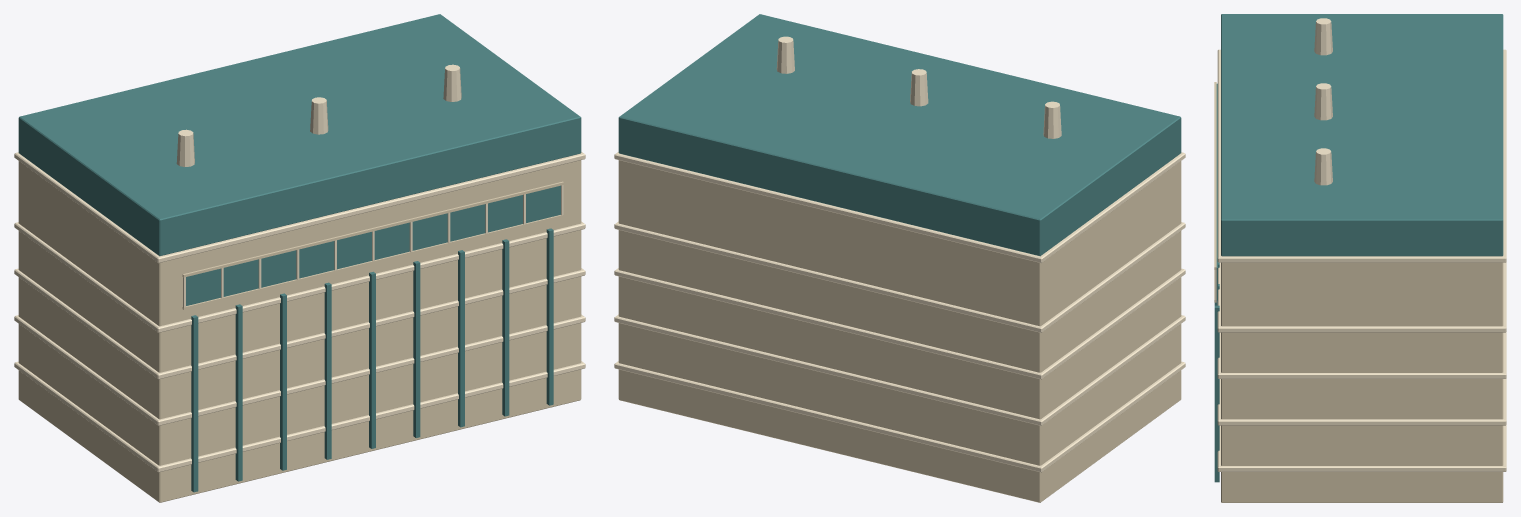
The model's file is hsc3_power_turbine_hall.glb.
3 renders of one model, left to right at view 1: azimuth 30°, elevation 25°; view 2: azimuth 150°, elevation 25°; view 3: azimuth 270°, elevation 25°, orthographic.
Parts seen in each view (by area): view 1: hsc3_power_turbine_hall__hsc3-cream-enamel, hsc3_power_turbine_hall__hsc3-deep-teal, hsc3_power_turbine_hall__hsc3-pale-trim; view 2: hsc3_power_turbine_hall__hsc3-cream-enamel, hsc3_power_turbine_hall__hsc3-deep-teal, hsc3_power_turbine_hall__hsc3-pale-trim; view 3: hsc3_power_turbine_hall__hsc3-deep-teal, hsc3_power_turbine_hall__hsc3-cream-enamel, hsc3_power_turbine_hall__hsc3-pale-trim.
Part boxes in pixels (left/top/right/bottom): hsc3_power_turbine_hall__hsc3-cream-enamel: left=18, top=160, right=581, bottom=502; hsc3_power_turbine_hall__hsc3-deep-teal: left=18, top=14, right=581, bottom=492; hsc3_power_turbine_hall__hsc3-pale-trim: left=14, top=64, right=585, bottom=472; hsc3_power_turbine_hall__hsc3-cream-enamel: left=618, top=160, right=1181, bottom=502; hsc3_power_turbine_hall__hsc3-deep-teal: left=618, top=14, right=1181, bottom=256; hsc3_power_turbine_hall__hsc3-pale-trim: left=614, top=36, right=1185, bottom=472; hsc3_power_turbine_hall__hsc3-deep-teal: left=1214, top=14, right=1503, bottom=482; hsc3_power_turbine_hall__hsc3-cream-enamel: left=1214, top=82, right=1503, bottom=502; hsc3_power_turbine_hall__hsc3-pale-trim: left=1214, top=18, right=1506, bottom=471.
Bounding box in the file's own units: 38.5 × 27 × 22.76.
